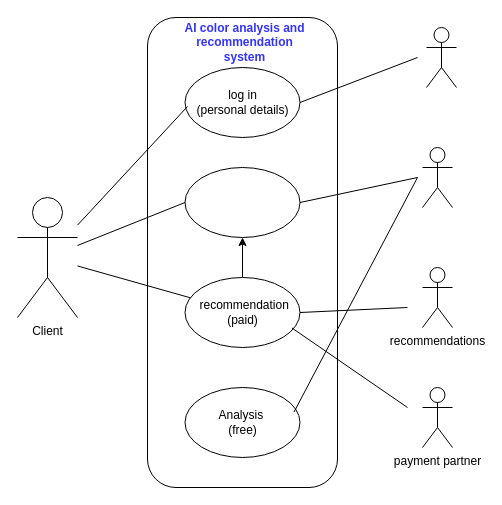
This 502x505 diagram has some shape labels left out. The centre of each missing label's shape, as x and y in pixels:
"ai analysis" belongs at pixel 437 177.
"authenticator" belongs at pixel 441 57.
"enter required data" belongs at pixel 242 202.
